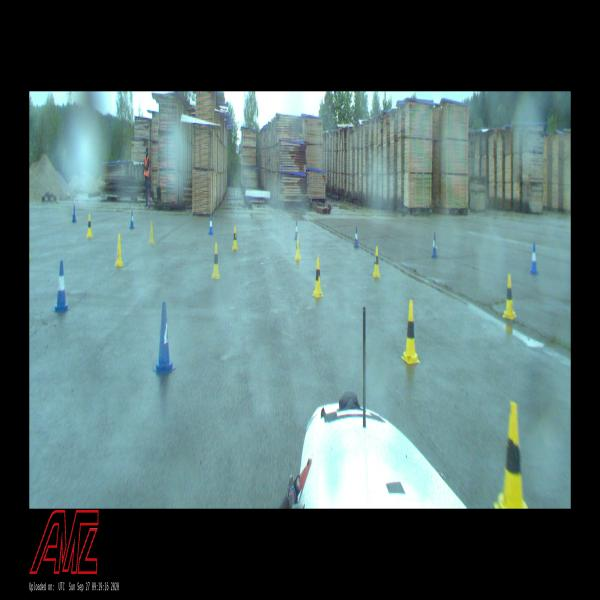blue_cone: (153, 302, 175, 374), (53, 260, 70, 312), (530, 243, 538, 274), (432, 233, 438, 258), (354, 227, 358, 248), (209, 214, 213, 234), (294, 220, 298, 240), (130, 210, 134, 229), (72, 204, 76, 223)
yellow_cone: (493, 401, 528, 508), (401, 300, 420, 365), (502, 274, 516, 320), (312, 257, 324, 297), (211, 242, 221, 280), (114, 233, 124, 267), (373, 246, 380, 278), (86, 214, 93, 238), (148, 220, 155, 244), (294, 234, 300, 260), (232, 226, 238, 250)
